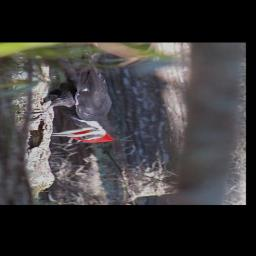Woodpecker: (17, 48, 119, 143)
